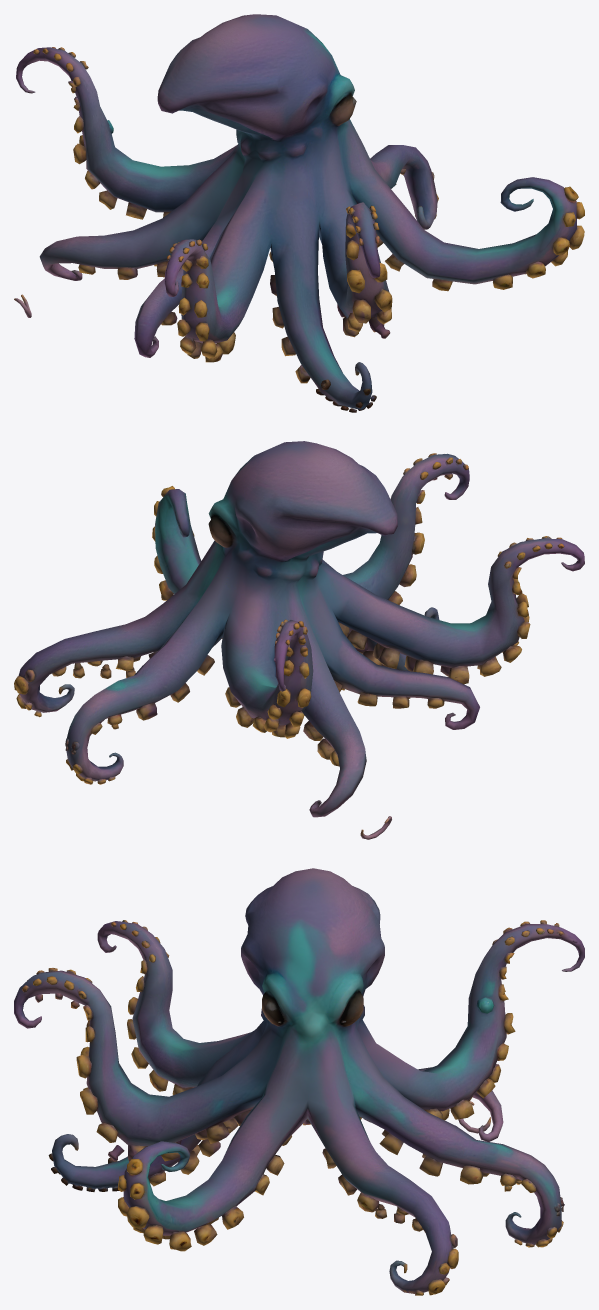
The model's file is r33-kraken.glb.
3 views of the same model, one above another, from view 1: azimuth 30°, elevation 25°; view 2: azimuth 150°, elevation 25°; view 3: azimuth 270°, elevation 25° (orthographic). The views are drawn at different scales.
Parts seen in each view (by area): view 1: tripo_node_a2cfc9f5-6791-4247-9718-a4425e1e71fb; view 2: tripo_node_a2cfc9f5-6791-4247-9718-a4425e1e71fb; view 3: tripo_node_a2cfc9f5-6791-4247-9718-a4425e1e71fb.
Part boxes in pixels (left/top/right/bottom): tripo_node_a2cfc9f5-6791-4247-9718-a4425e1e71fb: left=14, top=14, right=584, bottom=412; tripo_node_a2cfc9f5-6791-4247-9718-a4425e1e71fb: left=14, top=441, right=584, bottom=839; tripo_node_a2cfc9f5-6791-4247-9718-a4425e1e71fb: left=14, top=868, right=584, bottom=1295.
Size of the model in its own units: 0.9043 by 0.627 by 0.998.
1 material, 1 textured.
